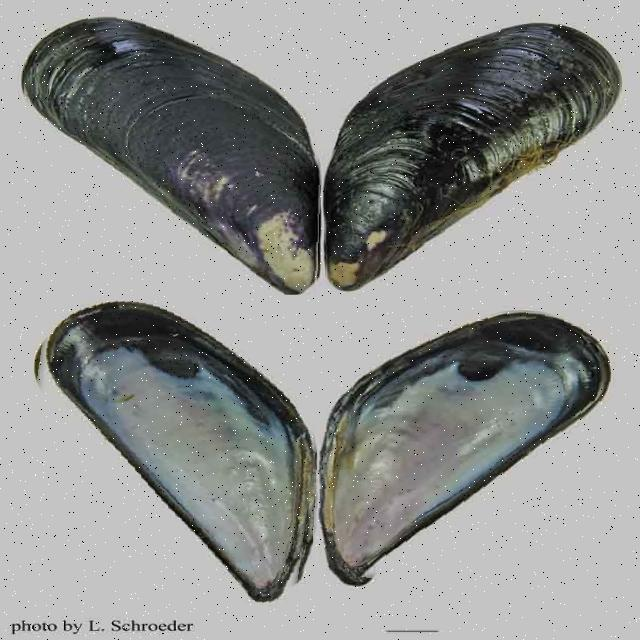Mytilus_galloprovincialis: (20, 298, 324, 602), (315, 303, 616, 587), (19, 14, 324, 293), (323, 20, 623, 295)
